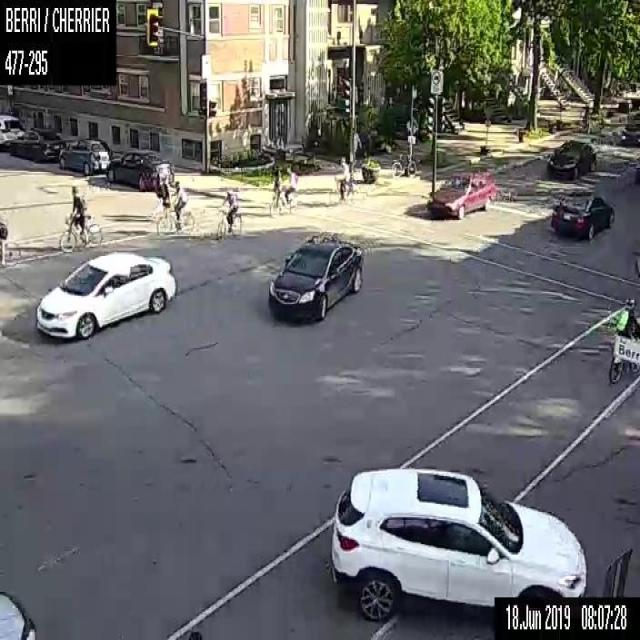cyclist: (58, 184, 102, 253), (608, 297, 639, 383), (156, 180, 194, 235), (214, 190, 244, 240), (328, 154, 354, 203), (156, 180, 175, 237), (0, 217, 20, 267), (282, 166, 299, 215), (268, 167, 285, 215)
vehicle: (331, 466, 586, 622), (36, 251, 175, 341), (267, 241, 363, 320), (426, 172, 495, 220), (550, 192, 614, 239), (105, 151, 174, 189), (545, 139, 596, 180), (58, 138, 112, 174), (8, 127, 64, 161), (0, 586, 35, 638), (0, 114, 25, 148), (620, 116, 639, 145)
